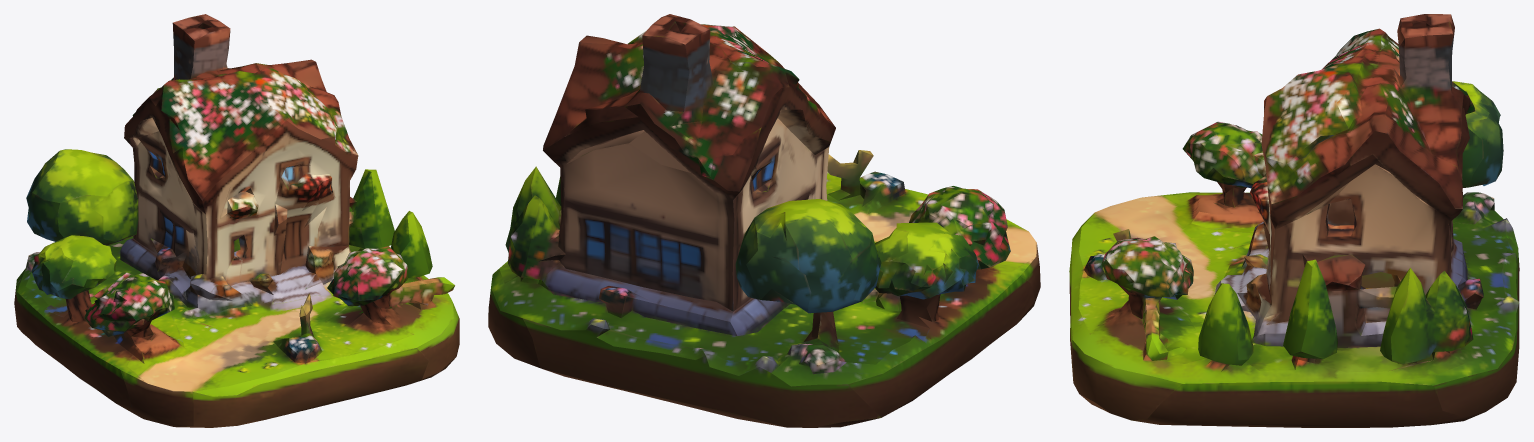
The model's file is house-wildflower-cottage.glb.
3 views of the same model, side by side, from view 1: azimuth 30°, elevation 25°; view 2: azimuth 150°, elevation 25°; view 3: azimuth 270°, elevation 25° (orthographic). The views are drawn at different scales.
Parts seen in each view (by area): view 1: geometry_0; view 2: geometry_0; view 3: geometry_0.
Boxes of the visible parts, bbox=[...] form: geometry_0: bbox=[14, 14, 459, 427]; geometry_0: bbox=[488, 14, 1040, 427]; geometry_0: bbox=[1069, 14, 1519, 427].
Bounding box in the file's own units: 1 × 0.7455 × 0.9364.
1 material, 1 textured.
